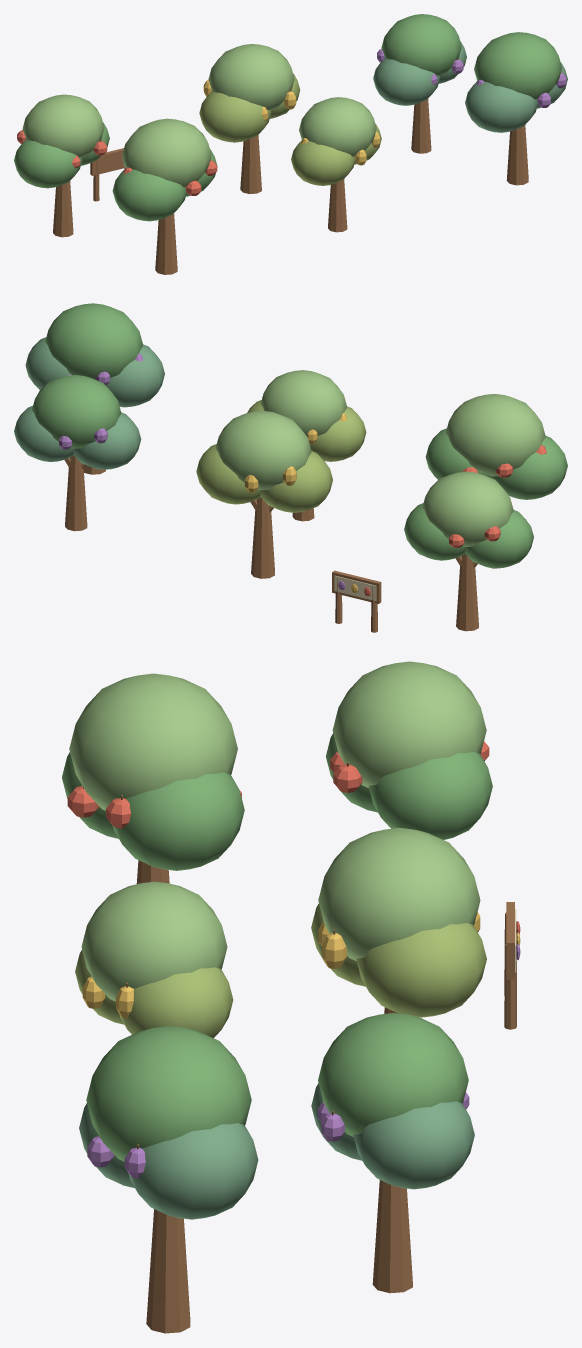
3 renders of one model, top to bottom at view 1: azimuth 30°, elevation 25°; view 2: azimuth 150°, elevation 25°; view 3: azimuth 270°, elevation 25°, orthographic. The views are drawn at different scales.
Visible parts, largest first — view 1: Apple foliage.005, Plum foliage.005, Pear foliage.002, Apple foliage.002, Plum foliage.002, Pear foliage.005, Apple foliage.003, Plum foliage.003, Pear foliage, Apple foliage, Plum foliage, Pear foliage.003 (+7 smaller); view 2: Apple foliage.005, Plum foliage.005, Pear foliage.002, Apple foliage.002, Plum foliage.002, Pear foliage.005, Apple foliage.003, Pear foliage, Apple foliage, Plum foliage.003, Plum foliage, Pear foliage.001 (+10 smaller); view 3: Apple foliage.005, Plum foliage.005, Pear foliage.002, Apple foliage.002, Plum foliage.002, Pear foliage.005, Apple foliage.004, Pear foliage.001, Plum foliage.004, Plum foliage.001, Apple foliage.001, Pear foliage.004 (+5 smaller).
Boxes of the visible parts, x1,y1,x2,y2 form: Apple foliage.005: [122, 118, 211, 187]; Plum foliage.005: [474, 32, 561, 99]; Pear foliage.002: [208, 44, 294, 110]; Apple foliage.002: [22, 94, 104, 157]; Plum foliage.002: [381, 14, 461, 75]; Pear foliage.005: [299, 97, 376, 156]; Apple foliage.003: [112, 168, 186, 221]; Plum foliage.003: [465, 80, 537, 132]; Pear foliage: [199, 91, 271, 142]; Apple foliage: [14, 139, 82, 188]; Plum foliage: [373, 57, 440, 105]; Pear foliage.003: [291, 139, 355, 185]; Apple foliage.005: [446, 394, 545, 476]; Plum foliage.005: [45, 303, 142, 379]; Pear foliage.002: [215, 410, 311, 490]; Apple foliage.002: [422, 471, 513, 546]; Plum foliage.002: [32, 375, 121, 448]; Pear foliage.005: [260, 370, 346, 435]; Apple foliage.003: [493, 436, 567, 499]; Pear foliage: [260, 451, 332, 512]; Apple foliage: [464, 510, 533, 568]; Plum foliage.003: [106, 344, 164, 407]; Plum foliage: [73, 412, 141, 469]; Pear foliage.001: [196, 444, 260, 504]; Apple foliage.005: [69, 673, 237, 810]; Plum foliage.005: [86, 1026, 251, 1161]; Pear foliage.002: [318, 827, 480, 961]; Apple foliage.002: [332, 661, 486, 787]; Plum foliage.002: [318, 1013, 468, 1136]; Pear foliage.005: [81, 881, 227, 1001]; Apple foliage.004: [112, 772, 244, 870]; Pear foliage.001: [356, 923, 486, 1017]; Plum foliage.004: [128, 1123, 258, 1219]; Plum foliage.001: [353, 1101, 474, 1189]; Apple foliage.001: [368, 751, 492, 839]; Pear foliage.004: [115, 967, 233, 1038].
Size of the model in its own units: 13.39 by 3.79 by 5.35.
